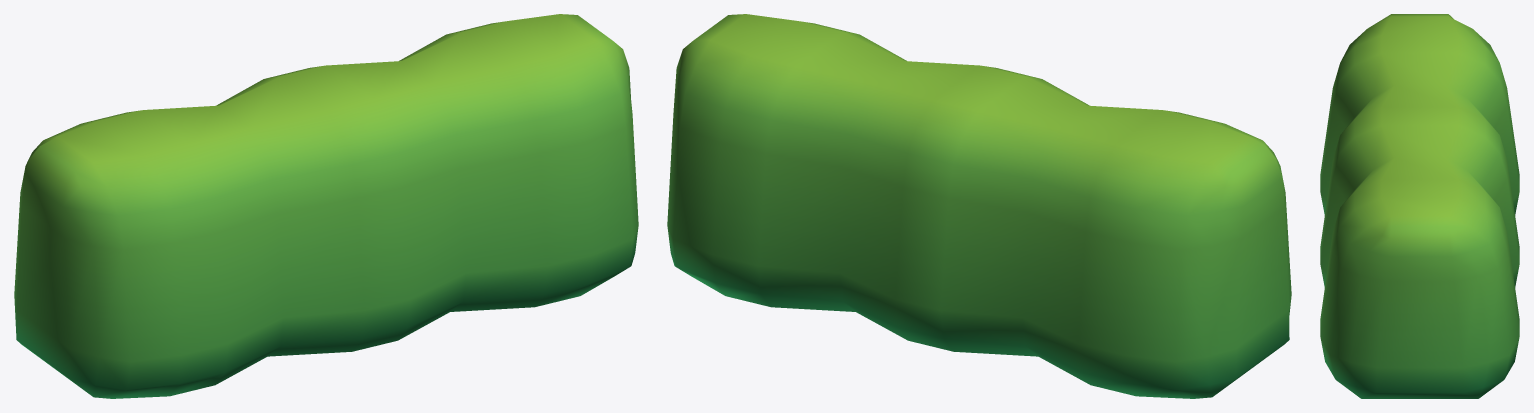
The model's file is hedge_straight_long.fbx.
3 views of the same model, side by side, from view 1: azimuth 30°, elevation 25°; view 2: azimuth 150°, elevation 25°; view 3: azimuth 270°, elevation 25° (orthographic). The views are drawn at different scales.
Visible parts, largest first — view 1: hedge_straight_long; view 2: hedge_straight_long; view 3: hedge_straight_long.
Boxes of the visible parts, x1,y1,x2,y2 form: hedge_straight_long: (14, 14, 638, 398); hedge_straight_long: (667, 14, 1291, 398); hedge_straight_long: (1320, 14, 1519, 398).
Size of the model in its own units: 4 by 1.5 by 1.5.
